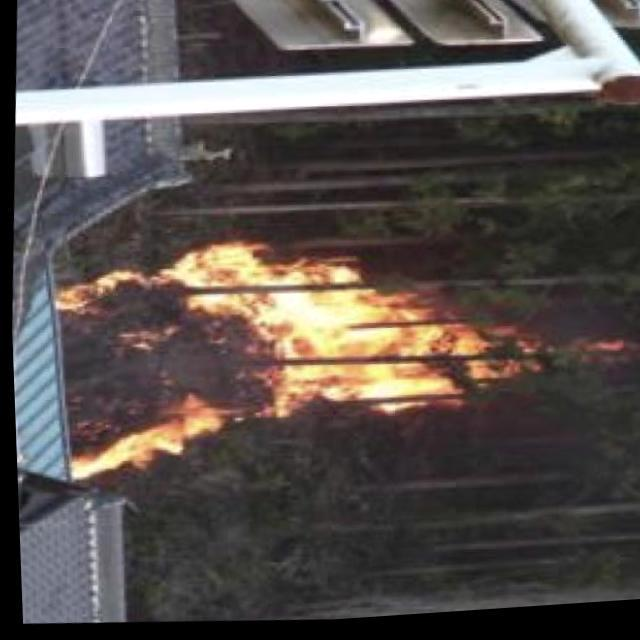fire: (70, 223, 542, 502)
